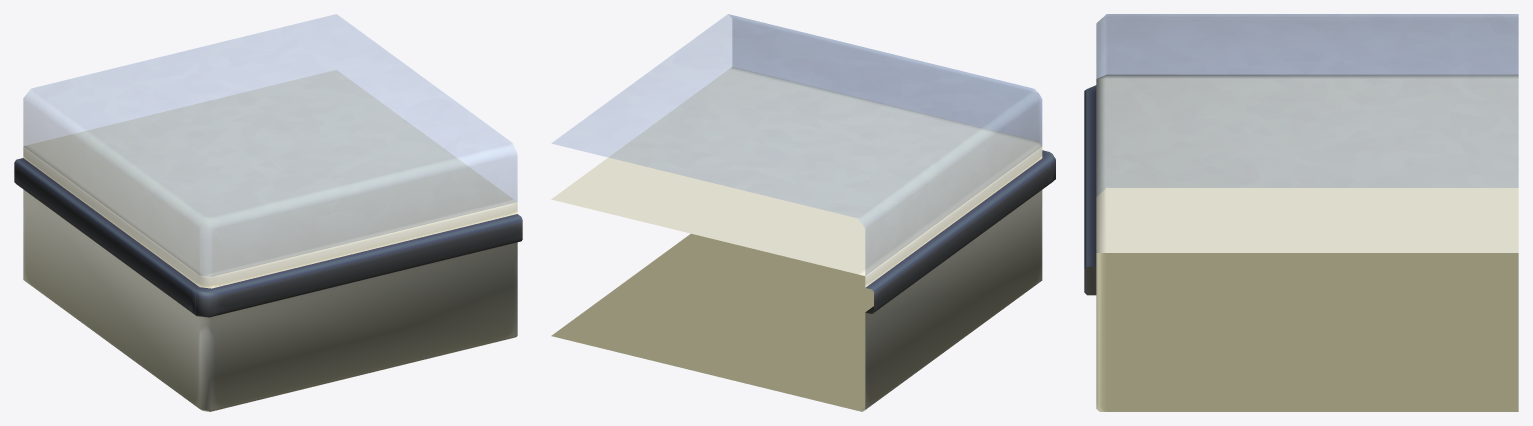
Rendered from LP_Showcases_Angle.fbx.
3 renders of one model, left to right at view 1: azimuth 30°, elevation 25°; view 2: azimuth 150°, elevation 25°; view 3: azimuth 270°, elevation 25°, orthographic. The views are drawn at different scales.
Visible parts, largest first — view 1: Showcase_Angle; view 2: Showcase_Angle; view 3: Showcase_Angle.
Boxes of the visible parts, box(x1,y1,x2,y2) form: Showcase_Angle: box(14, 14, 522, 411); Showcase_Angle: box(551, 14, 1055, 411); Showcase_Angle: box(1084, 14, 1518, 411).
Size of the model in its own units: 105 by 60 by 105.
